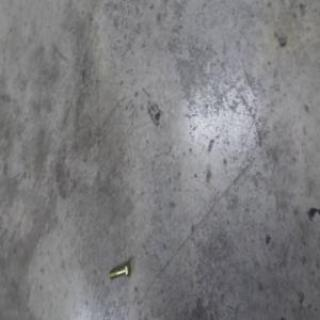Bolttrack_idkeyframe: (108, 258, 130, 278)
